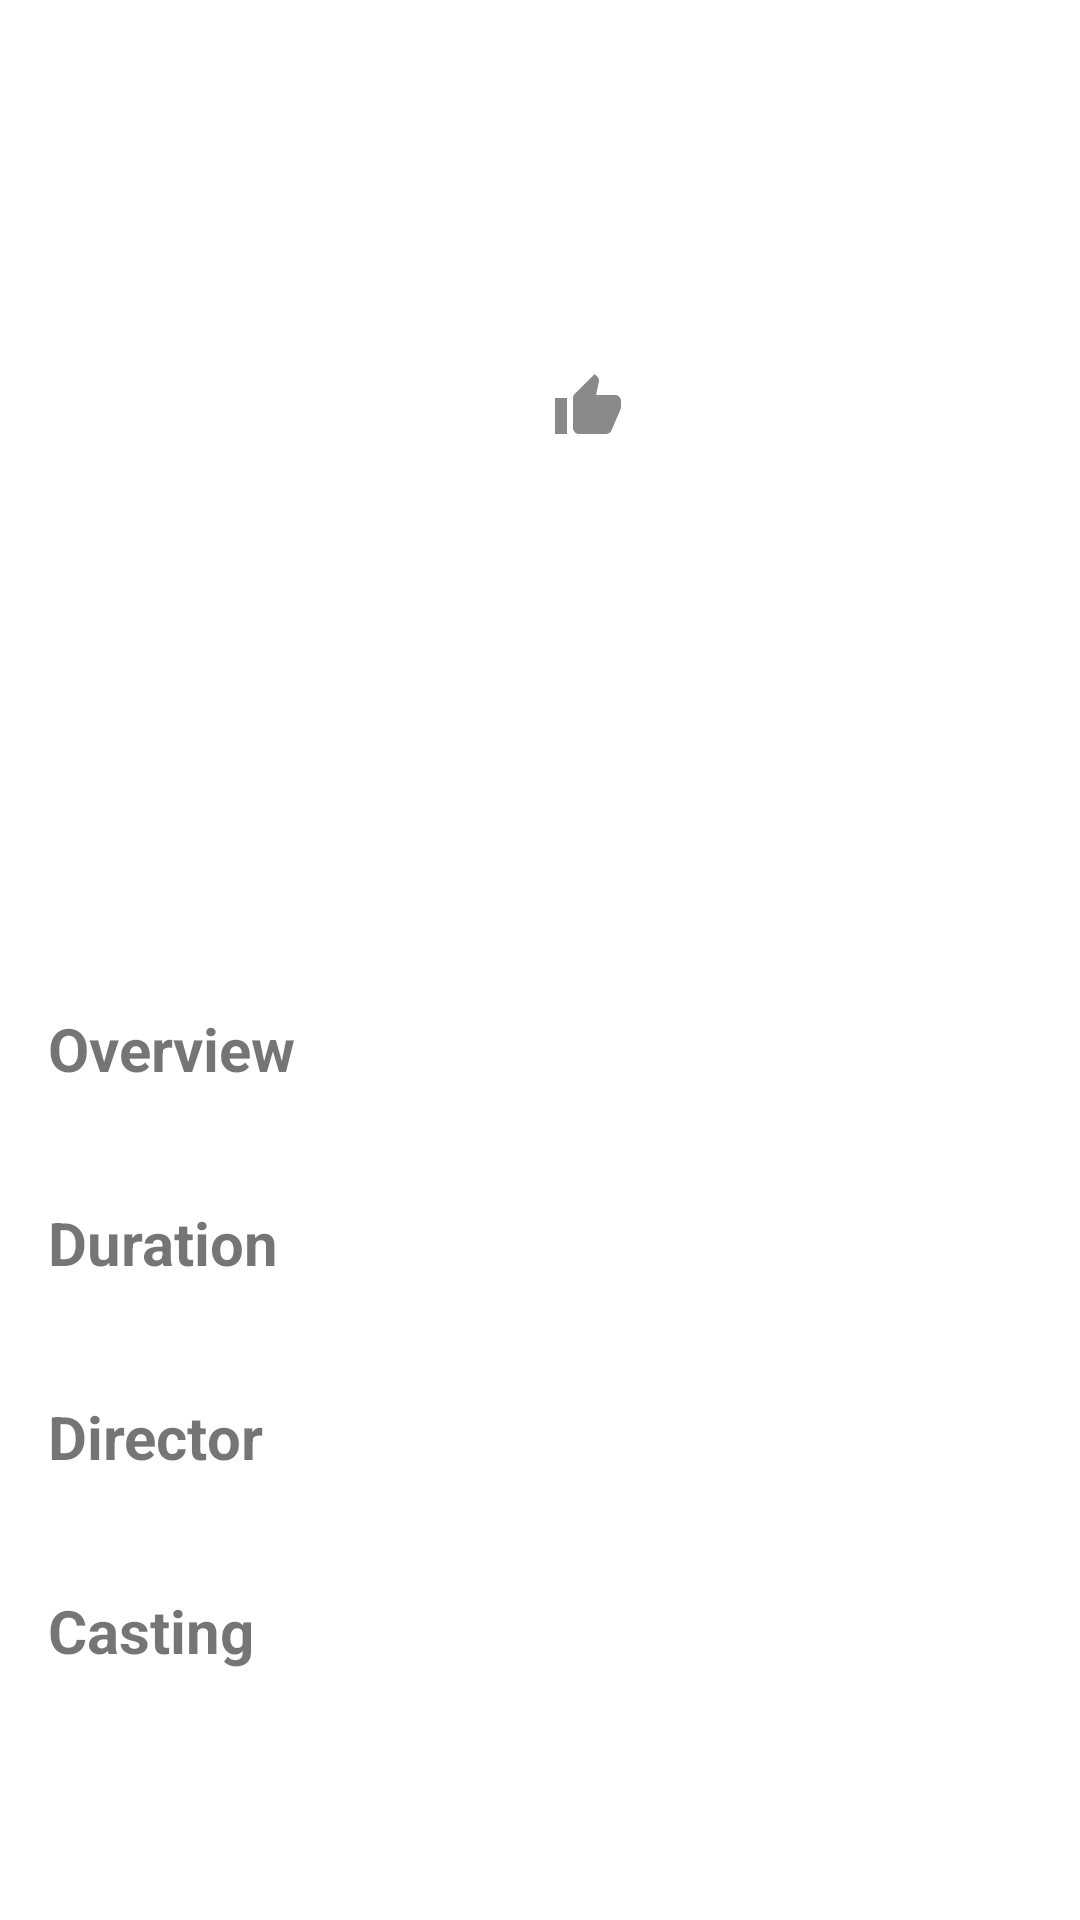

Point at icon controls on the screen. Image size 1080w x 1920h, points as (x,y).
thumb: (588,404)
